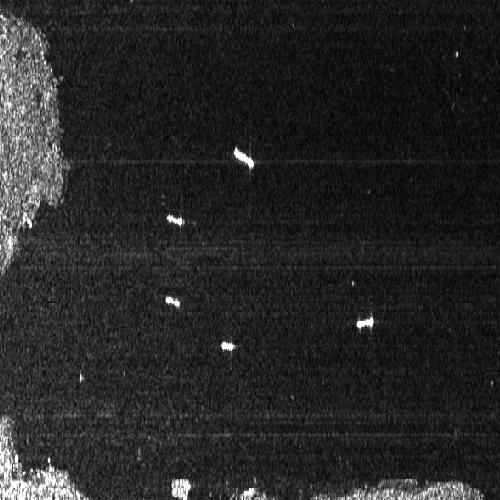ship: (233, 147, 255, 169), (166, 213, 185, 226), (356, 317, 374, 330), (220, 340, 236, 352), (165, 296, 181, 307)
